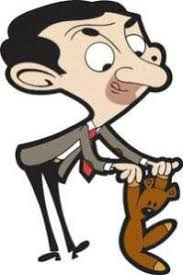mrbean: (1, 1, 183, 263)
